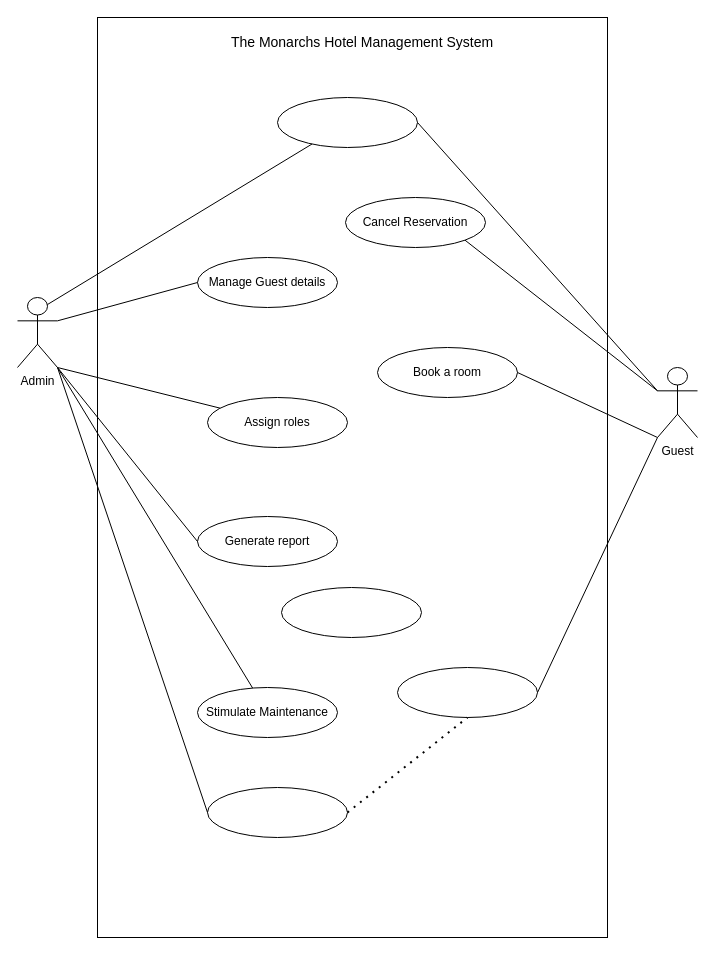
This 715x955 diagram has some shape labels left out. The shapes that lost their labels are listed below. From the top down, each one's box as (x1, y1, x2, y2) in pixels, then its label:
(276, 96, 418, 148): View Available rooms
(280, 586, 422, 638): Dynamic pricing
(396, 666, 538, 718): Recieve Notification
(206, 786, 348, 838): Send Notification
